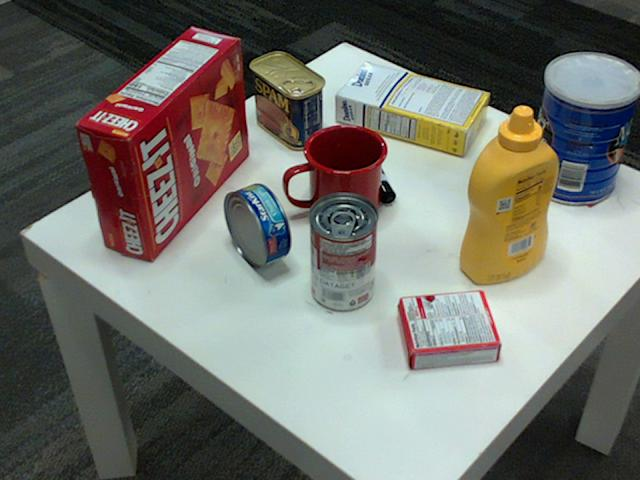cracker_box: (75, 24, 249, 258)
gelatin_box: (395, 291, 501, 369)
large_marker: (353, 137, 394, 202)
master_chef_can: (527, 53, 639, 204)
mug: (285, 122, 388, 224)
mustard_bottle: (458, 106, 558, 282)
potted_meat_can: (247, 53, 324, 149)
sugar_box: (335, 61, 491, 155)
tomato_soup_can: (309, 193, 378, 311)
tuna_fish_can: (224, 183, 291, 269)
